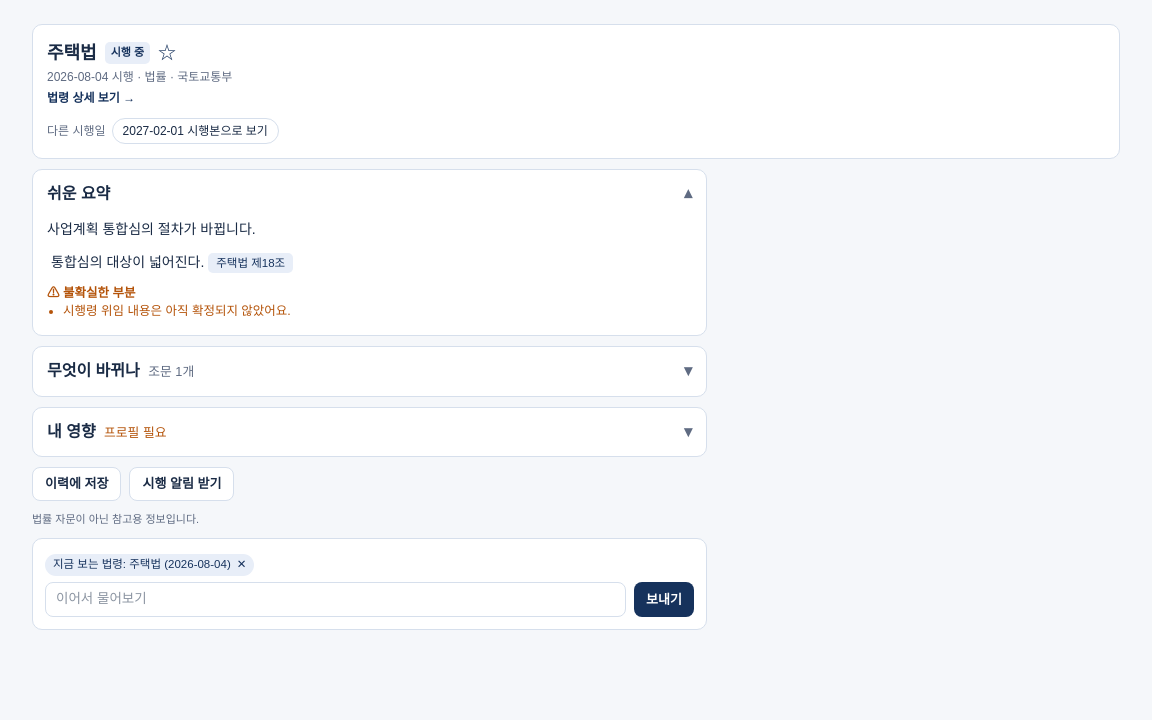
ResultView — 모바일 › 미충족 카드 — 사유별 안내
Click the button "내 영향 프로필 필요 ▾".
click(71, 431)  # box x1=33 y1=408 x2=706 y2=456
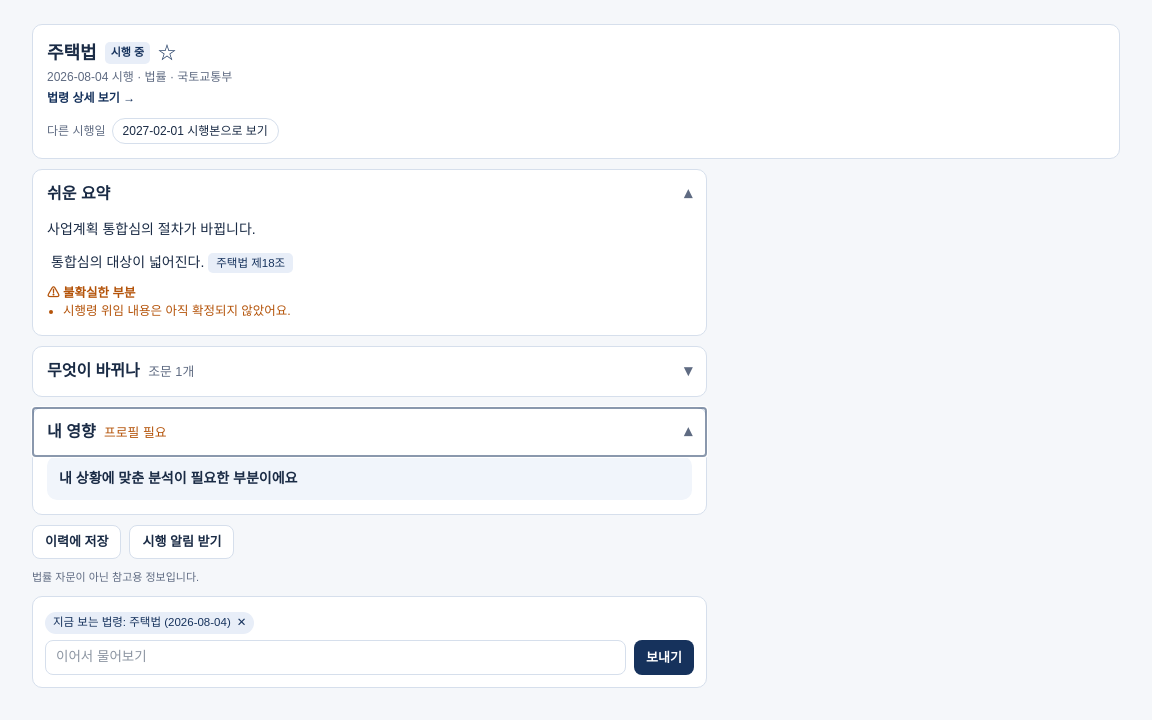
Expected: the text "내 상황에 맞춘 분석이 필요한 부분이에요" is shown, x1=59 y1=470 x2=297 y2=486
